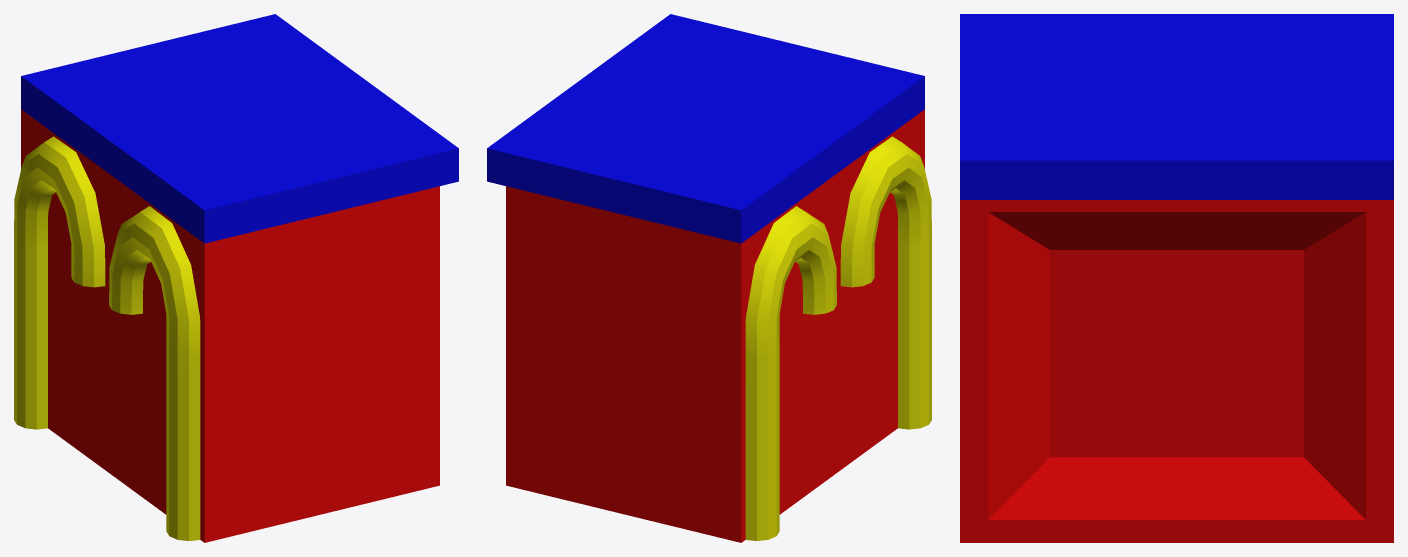
Rendered from Kundentheke_3_gerade_low.fbx.
3 renders of one model, left to right at view 1: azimuth 30°, elevation 25°; view 2: azimuth 150°, elevation 25°; view 3: azimuth 270°, elevation 25°, orthographic. The views are drawn at different scales.
Parts seen in each view (by area): view 1: Kunden1; view 2: Kunden1; view 3: Kunden1.
Boxes of the visible parts, x1,y1,x2,y2 form: Kunden1: [14, 14, 458, 542]; Kunden1: [487, 14, 931, 542]; Kunden1: [960, 14, 1393, 542].
Size of the model in its own units: 0.8618 by 1 by 1.
